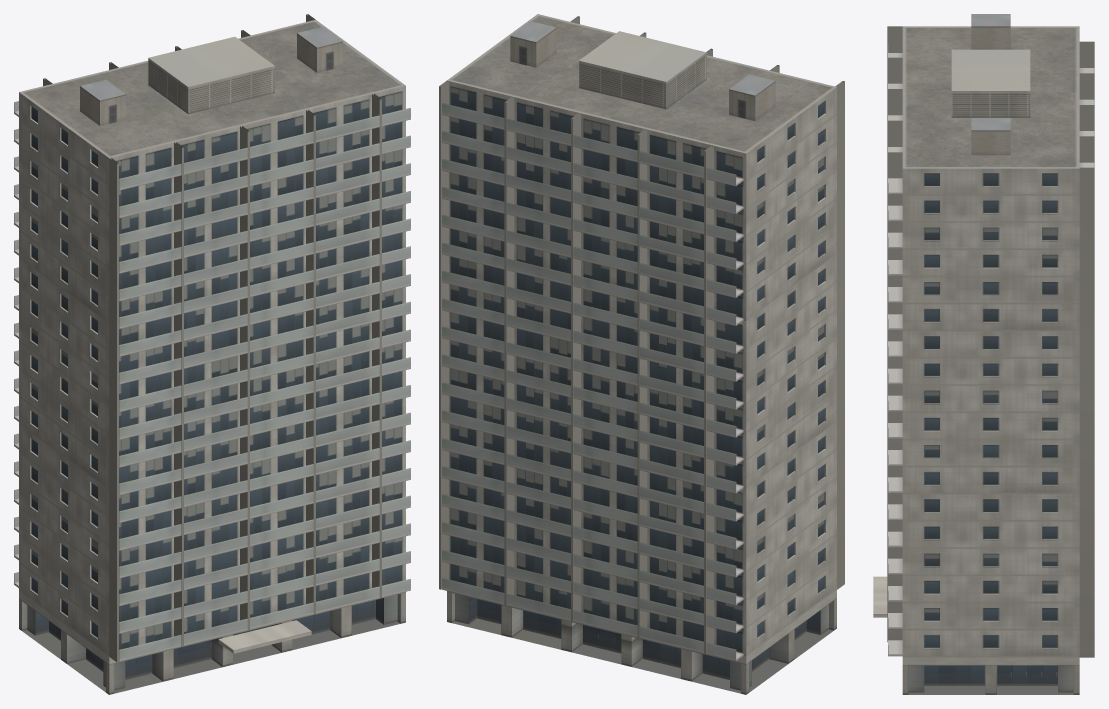
Rendered from sf_apartment_c.glb.
3 views of the same model, side by side, from view 1: azimuth 30°, elevation 25°; view 2: azimuth 150°, elevation 25°; view 3: azimuth 270°, elevation 25° (orthographic). The views are drawn at different scales.
Visible parts, largest first — view 1: sf_apartment_c; view 2: sf_apartment_c; view 3: sf_apartment_c.
Part boxes in pixels (x1,y1,x2,y2): sf_apartment_c: (14, 14, 410, 694); sf_apartment_c: (439, 14, 844, 694); sf_apartment_c: (873, 14, 1094, 694).
Size of the model in its own units: 34.2 by 62.1 by 22.55.
Materials: 1 (1 with a texture image).
